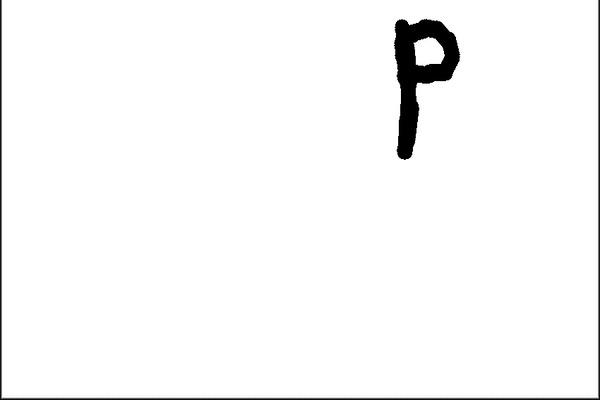P: (376, 9, 463, 163)
